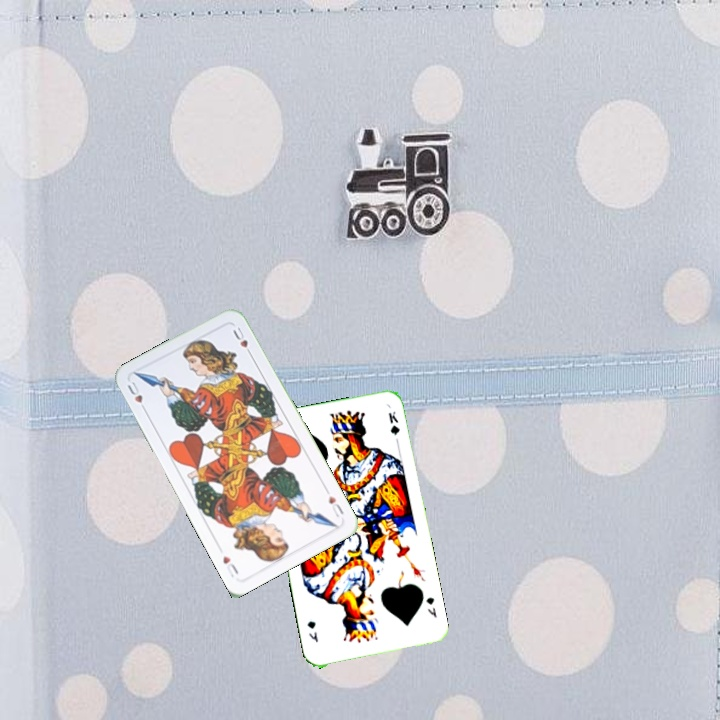GK: (422, 593, 439, 620)
HU: (123, 377, 149, 415), (325, 491, 346, 521)
